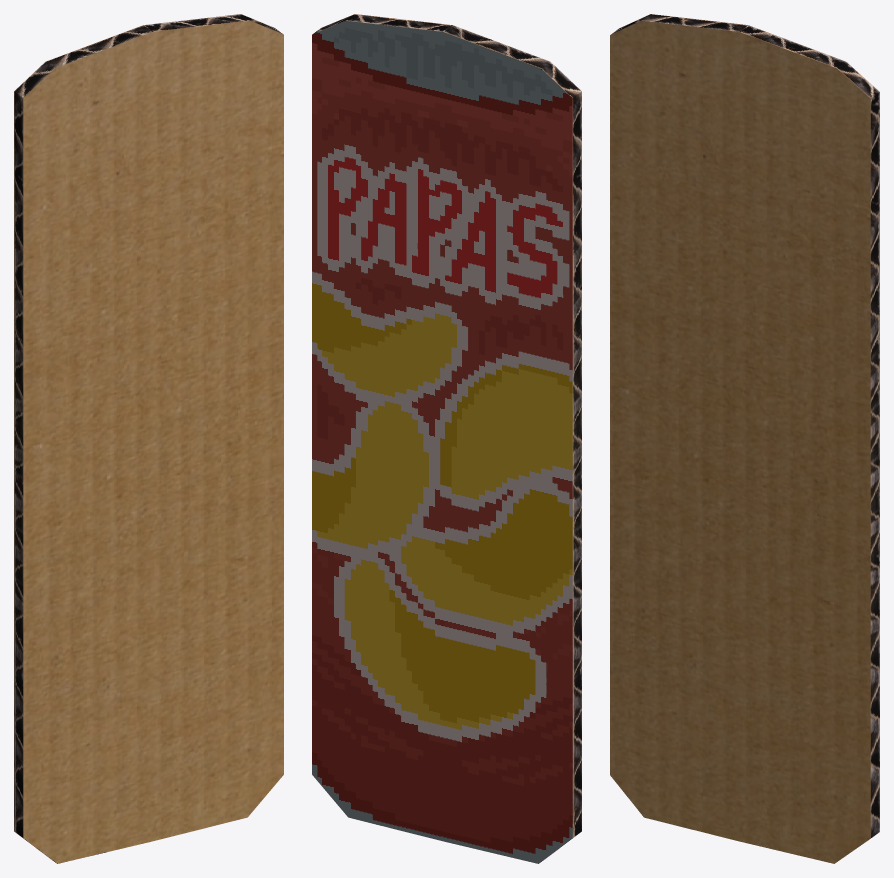
Rendered from PAPAS C.glb.
The picture shows the model from 3 angles, left to right: view 1: azimuth 30°, elevation 25°; view 2: azimuth 150°, elevation 25°; view 3: azimuth 330°, elevation 25°; orthographic projection.
Parts seen in each view (by area): view 1: PAPAS C; view 2: PAPAS C; view 3: PAPAS C.
Boxes of the visible parts, x1,y1,x2,y2 form: PAPAS C: (14,14,283,863); PAPAS C: (312,14,581,863); PAPAS C: (610,14,879,863).
Bounding box in the file's own units: 1.45 × 4.32 × 0.09.
1 material, 1 textured.
